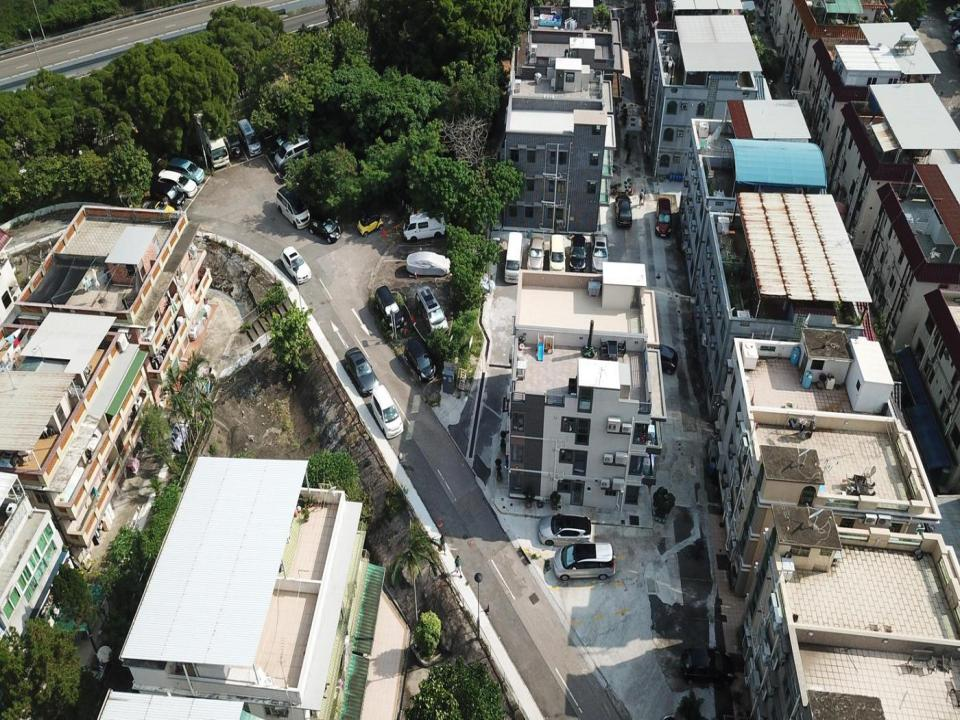bus: (504, 230, 524, 284)
car: (343, 346, 380, 397), (538, 512, 592, 546), (279, 146, 320, 182), (404, 338, 437, 382), (156, 168, 198, 197), (307, 210, 342, 244), (267, 126, 308, 155), (280, 245, 311, 283), (406, 251, 451, 277), (644, 342, 678, 376), (168, 156, 205, 184), (150, 181, 185, 208), (590, 230, 608, 274), (141, 198, 176, 220), (526, 233, 545, 273), (357, 209, 384, 237), (568, 235, 587, 273), (655, 196, 672, 238), (221, 127, 243, 158), (614, 195, 633, 228)
truck: (192, 106, 230, 168)
van: (552, 542, 616, 580), (414, 284, 450, 341), (369, 384, 404, 438), (276, 185, 312, 229), (374, 285, 405, 333), (274, 133, 312, 172), (402, 209, 446, 242), (237, 118, 262, 157), (548, 233, 566, 273)
